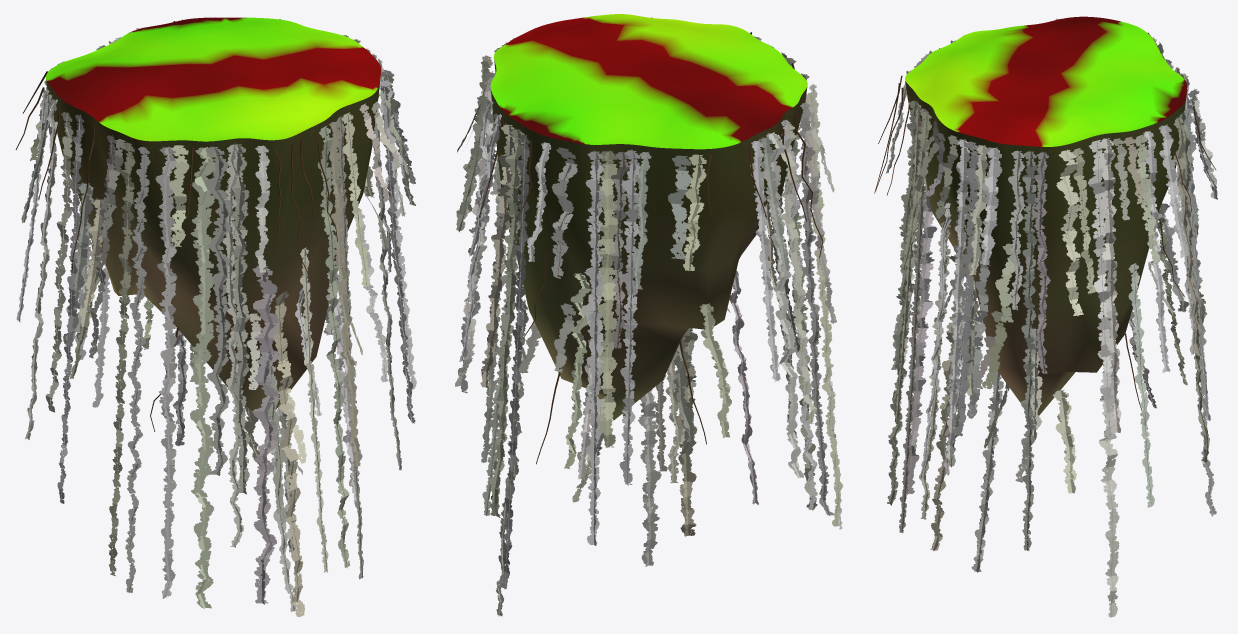
File: SM_H08_Floater03.fbx
3 views of the same model, side by side, from view 1: azimuth 30°, elevation 25°; view 2: azimuth 150°, elevation 25°; view 3: azimuth 270°, elevation 25° (orthographic). The views are drawn at different scales.
Parts seen in each view (by area): view 1: SM_H08_Floater03_Ivy, SM_H08_Floater03; view 2: SM_H08_Floater03_Ivy, SM_H08_Floater03; view 3: SM_H08_Floater03_Ivy, SM_H08_Floater03.
Boxes of the visible parts, x1,y1,x2,y2 form: SM_H08_Floater03_Ivy: (15,17,416,616); SM_H08_Floater03: (46,17,381,411); SM_H08_Floater03_Ivy: (455,15,843,616); SM_H08_Floater03: (490,14,807,420); SM_H08_Floater03_Ivy: (874,18,1217,617); SM_H08_Floater03: (905,16,1186,418).
Size of the model in its own units: 24.22 by 35.32 by 22.51.
